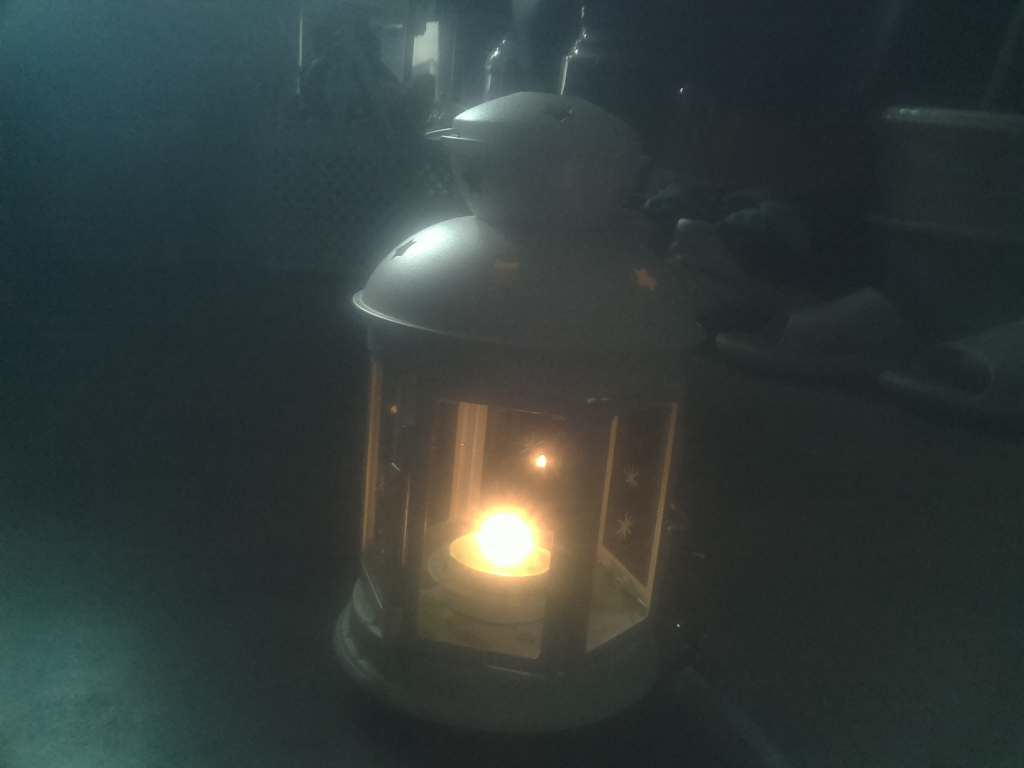fire: (443, 491, 562, 609)
